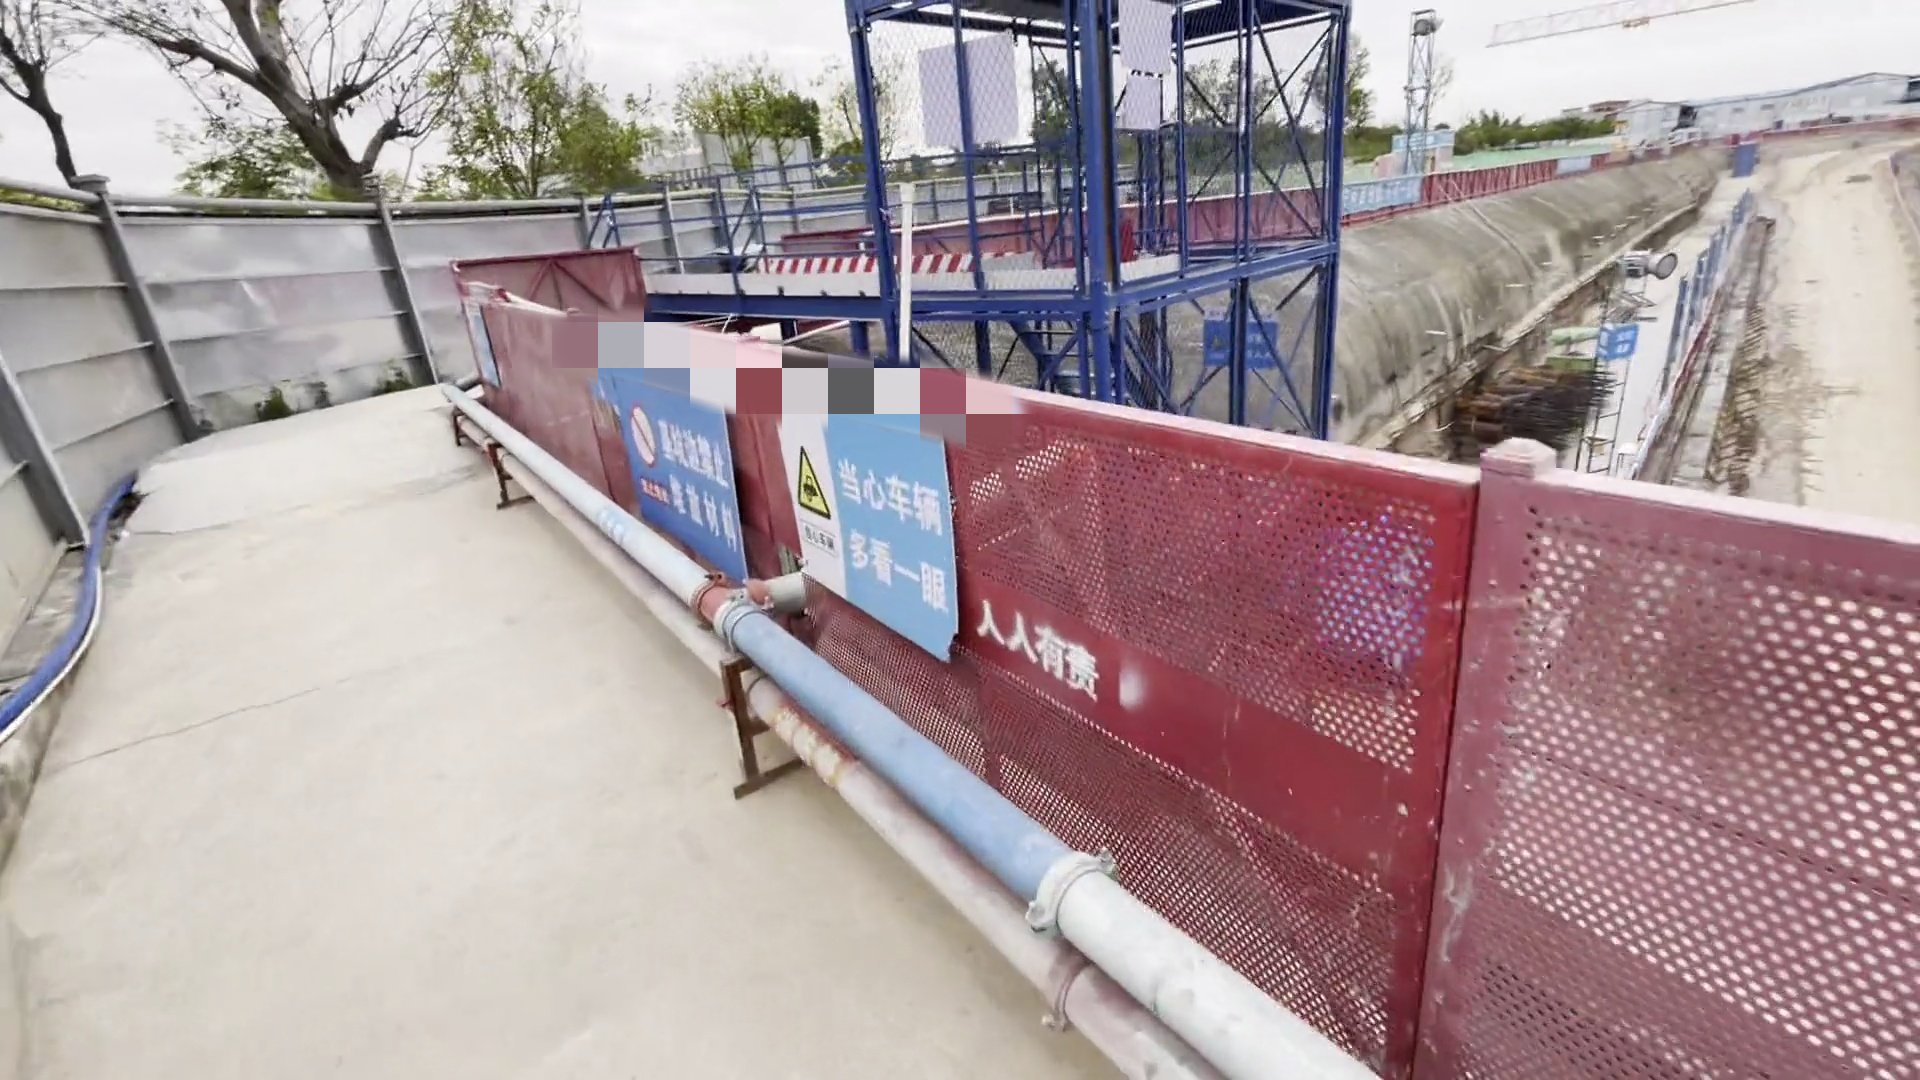fence: (463, 286, 1902, 1072), (1276, 127, 1675, 244)
slogan: (589, 320, 967, 625), (1203, 305, 1276, 375), (1338, 178, 1423, 214), (1391, 123, 1460, 154), (1597, 324, 1644, 361)
